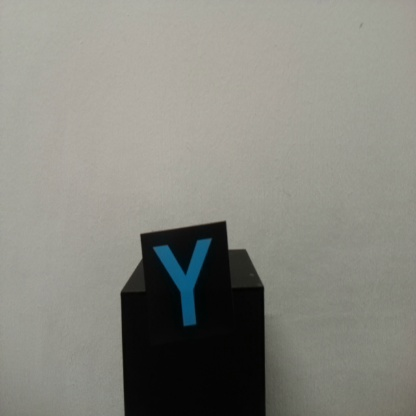id_14: (141, 232, 229, 342)
